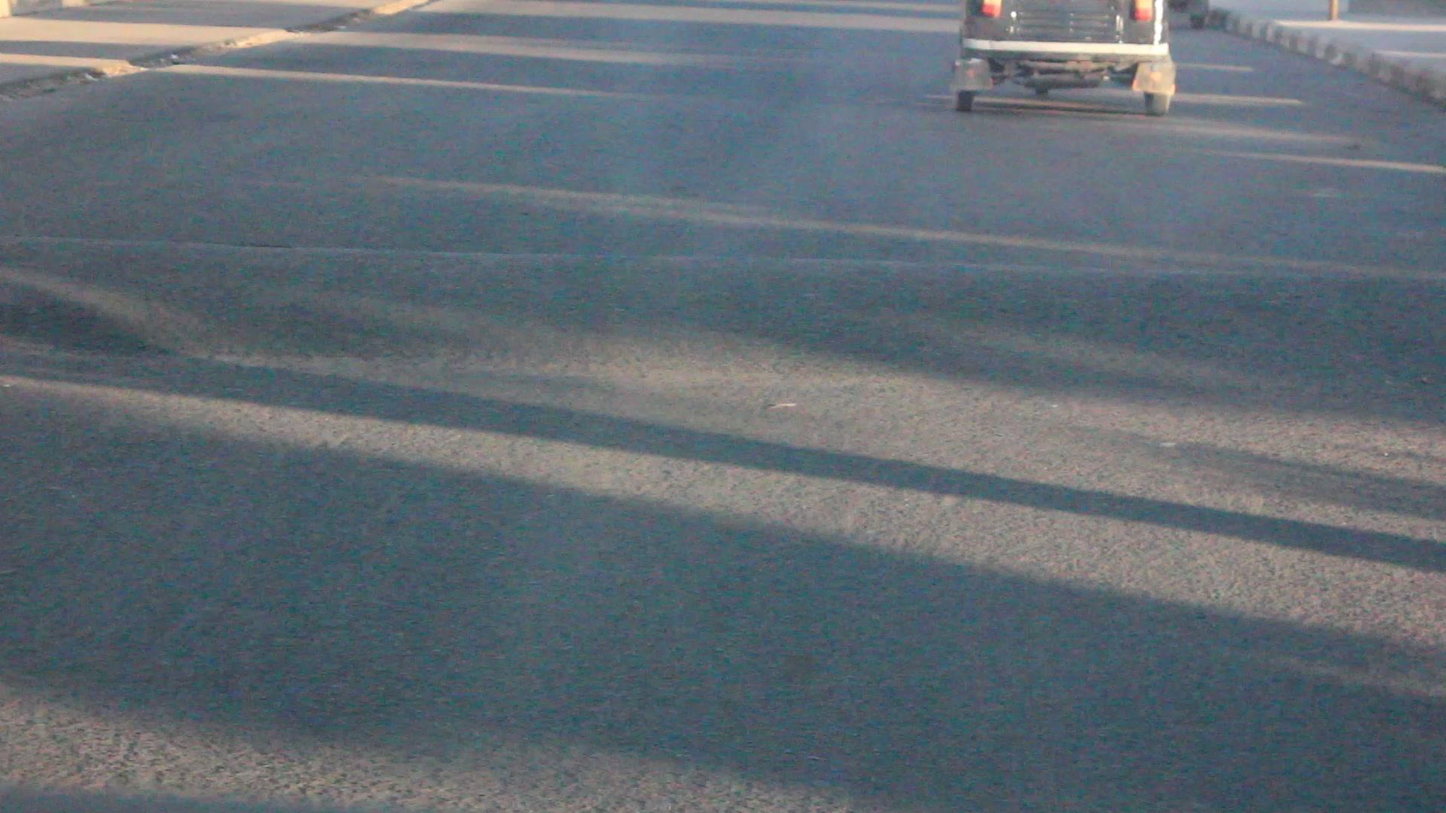Bump: (0, 228, 1446, 397)
